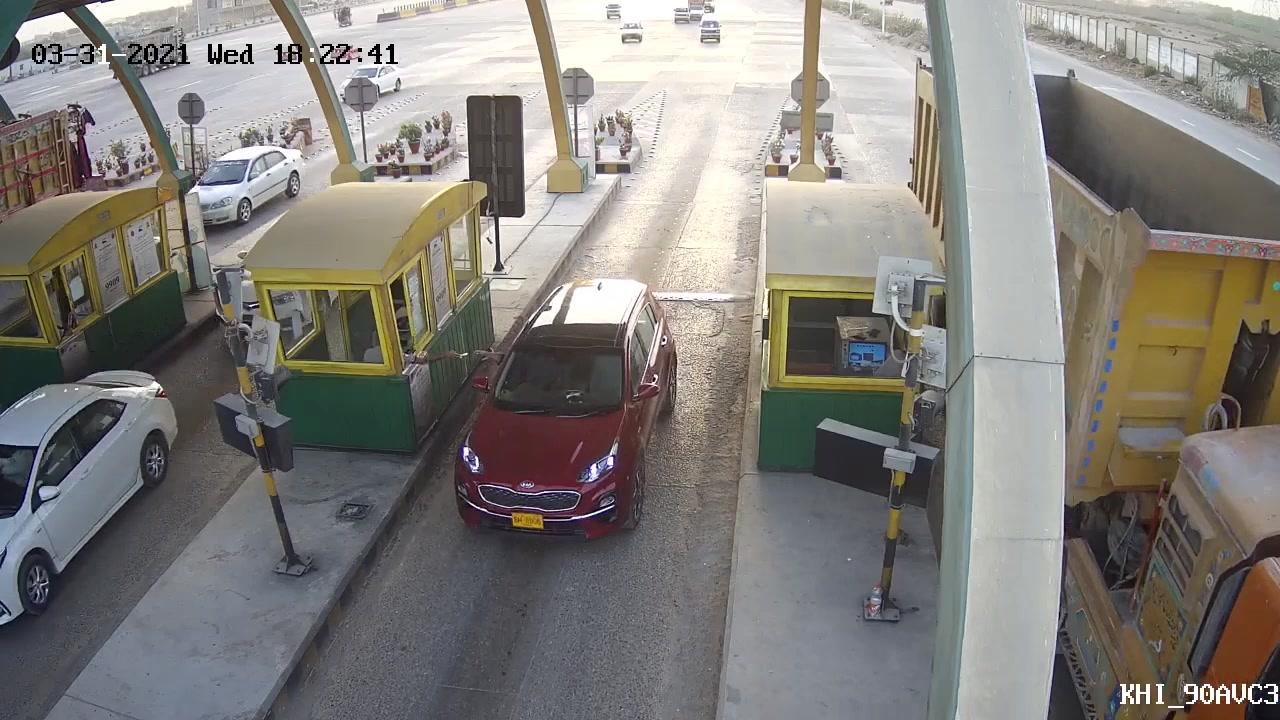F1: (450, 272, 690, 538)
